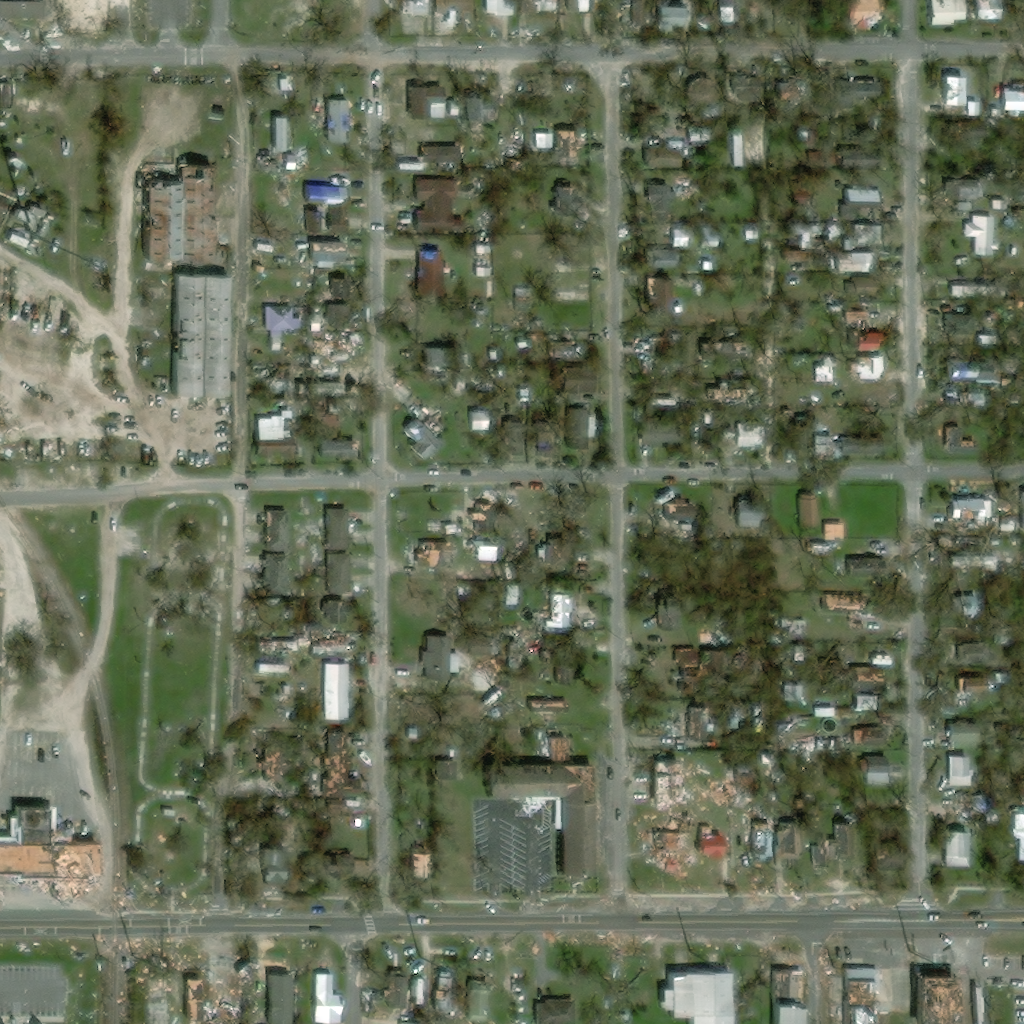destroyed: (648, 815, 691, 864), (651, 761, 677, 804), (739, 757, 756, 799), (438, 0, 472, 17), (321, 343, 358, 358), (275, 380, 299, 403), (538, 323, 551, 351), (513, 145, 526, 161), (492, 563, 502, 581), (684, 181, 695, 197), (968, 543, 990, 550), (479, 305, 490, 319), (814, 805, 824, 819), (684, 281, 698, 288), (968, 540, 976, 544)
major_damage: (480, 764, 593, 878), (0, 807, 100, 883), (143, 166, 218, 263), (175, 276, 230, 398), (330, 736, 367, 799), (843, 969, 881, 1023), (913, 976, 954, 1023), (813, 825, 851, 866), (680, 650, 722, 683), (951, 362, 1004, 386), (853, 315, 886, 351), (951, 500, 986, 533), (330, 189, 355, 233), (267, 749, 292, 790), (747, 824, 773, 861), (265, 298, 295, 330), (697, 827, 724, 861), (652, 281, 676, 317), (312, 632, 348, 656), (709, 345, 750, 366), (561, 132, 583, 168), (308, 241, 340, 265), (554, 652, 577, 685), (187, 979, 204, 1022), (826, 596, 871, 612), (692, 709, 714, 741), (469, 500, 492, 530), (439, 973, 456, 1012), (543, 739, 573, 761), (415, 546, 446, 567), (653, 340, 689, 358), (950, 76, 969, 109), (958, 557, 1001, 571), (549, 595, 569, 625), (673, 501, 699, 524), (474, 244, 492, 277), (787, 621, 813, 643), (857, 671, 882, 693), (818, 357, 840, 382), (536, 545, 563, 565), (334, 308, 357, 330), (416, 855, 432, 886), (486, 0, 515, 16), (483, 673, 503, 695), (554, 344, 581, 360), (257, 641, 297, 651), (790, 0, 806, 23), (334, 280, 352, 300), (513, 289, 528, 312), (535, 703, 573, 712), (466, 539, 498, 549), (7, 233, 28, 248), (515, 642, 523, 681), (966, 395, 988, 408), (14, 209, 33, 224), (998, 514, 1013, 532), (430, 524, 453, 532), (29, 207, 46, 217), (316, 317, 325, 334), (821, 664, 837, 673), (984, 338, 1001, 346), (818, 543, 834, 550), (630, 0, 641, 8)
minor_damage: (658, 972, 732, 1023), (767, 972, 804, 1023), (316, 99, 351, 140), (417, 248, 446, 297), (645, 598, 685, 631), (325, 665, 347, 722), (972, 218, 1002, 257), (260, 510, 287, 551), (846, 0, 879, 29), (945, 725, 983, 750), (781, 824, 806, 859), (737, 422, 767, 449), (843, 254, 883, 274), (474, 975, 491, 1022), (536, 1001, 572, 1023), (794, 227, 826, 251), (856, 359, 889, 381), (949, 428, 978, 453), (952, 182, 988, 202), (473, 99, 500, 125), (319, 441, 358, 459), (267, 851, 287, 886), (558, 189, 583, 216), (430, 149, 463, 169), (539, 423, 558, 456), (740, 80, 766, 104), (854, 730, 885, 747), (957, 288, 1009, 298), (784, 81, 806, 104), (953, 317, 978, 335), (860, 228, 885, 245), (410, 0, 434, 16), (0, 86, 16, 110), (962, 599, 984, 616), (444, 763, 462, 781), (673, 227, 689, 246), (800, 648, 822, 661), (258, 664, 286, 674), (862, 698, 883, 711), (829, 439, 845, 456), (309, 211, 323, 230), (790, 252, 814, 263), (506, 977, 518, 991), (461, 376, 470, 393), (725, 430, 736, 443), (850, 242, 861, 251)
no_damage: (414, 179, 458, 228), (814, 146, 888, 171), (257, 409, 294, 458), (404, 419, 442, 460), (429, 640, 463, 681), (315, 973, 340, 1023), (847, 192, 887, 223), (844, 82, 884, 112), (409, 87, 444, 119), (325, 554, 351, 595), (941, 831, 971, 866), (325, 509, 350, 550), (649, 185, 677, 221), (965, 679, 998, 708), (643, 420, 680, 444), (261, 553, 288, 585), (431, 351, 472, 372), (931, 0, 964, 26), (798, 186, 823, 219), (567, 411, 587, 449), (866, 759, 893, 786), (955, 757, 979, 787), (274, 976, 293, 1012), (653, 152, 684, 174), (801, 495, 821, 528), (565, 371, 594, 393), (510, 423, 530, 454), (956, 125, 992, 142), (270, 119, 288, 152), (855, 560, 889, 577), (847, 440, 888, 454), (667, 10, 692, 31), (653, 251, 682, 269), (738, 502, 759, 525), (965, 645, 994, 661), (854, 280, 882, 296), (323, 601, 345, 621), (1013, 814, 1023, 858), (705, 428, 720, 456), (733, 130, 742, 169), (577, 0, 600, 15), (728, 0, 744, 21), (1005, 84, 1023, 102), (850, 132, 879, 143), (805, 128, 822, 145), (789, 687, 807, 703), (827, 524, 845, 539), (477, 413, 491, 429), (507, 587, 518, 607), (871, 656, 890, 667), (973, 103, 984, 118), (276, 338, 285, 353), (997, 202, 1011, 211), (814, 709, 832, 716), (963, 204, 975, 212)
unclassified: (556, 274, 584, 305), (520, 0, 547, 29), (829, 690, 844, 701), (334, 801, 350, 810), (998, 213, 1011, 221), (323, 83, 332, 94), (295, 634, 305, 641)
